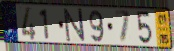1: (39, 8, 50, 41)
4: (20, 6, 37, 42)
5: (136, 11, 154, 47)
7: (113, 9, 131, 45)
9: (88, 9, 105, 44)
N: (62, 8, 86, 44)
